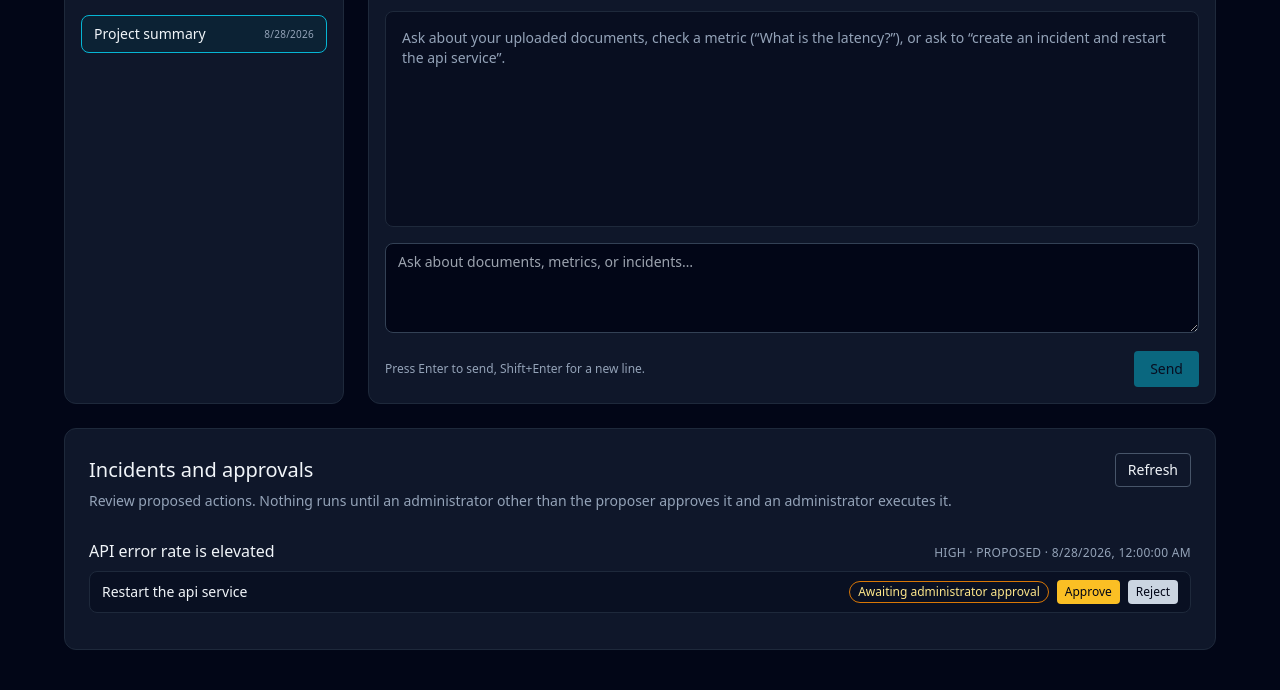
Scenario: HomePage › shows approval failures and resynchronizes the action state
(page scrolled)
Step 1. Click the button "Approve" → point(1088, 592), box top-left (1057, 580), bottom-right (1120, 604)
(page scrolled)
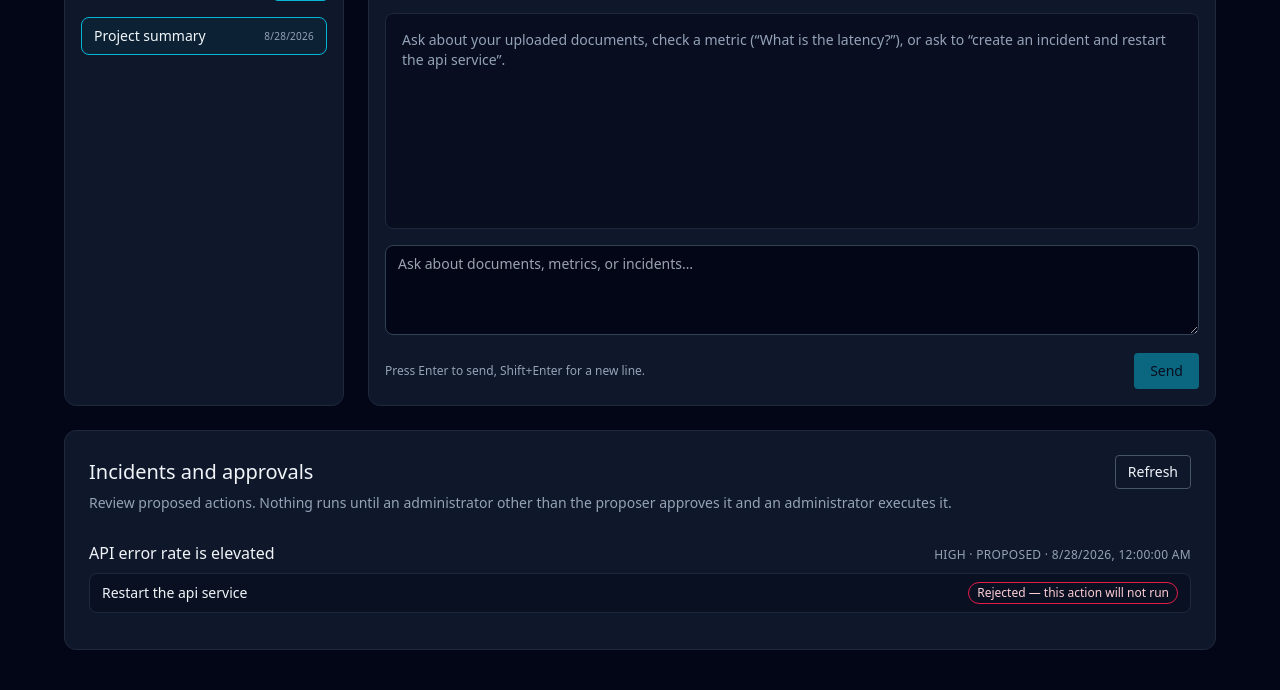
Check: the button "Approve" is not shown
Check: the text "Rejected — this action will not run" is shown, box top-left (968, 582), bottom-right (1178, 604)
